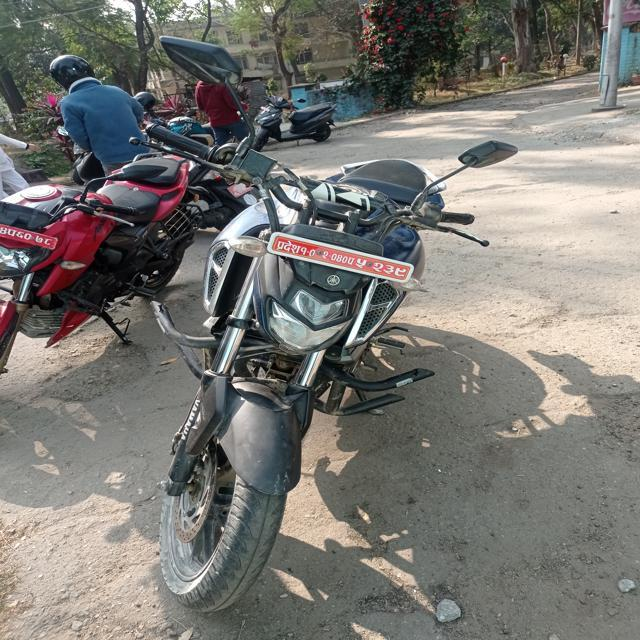license_plate: (256, 220, 424, 292)
